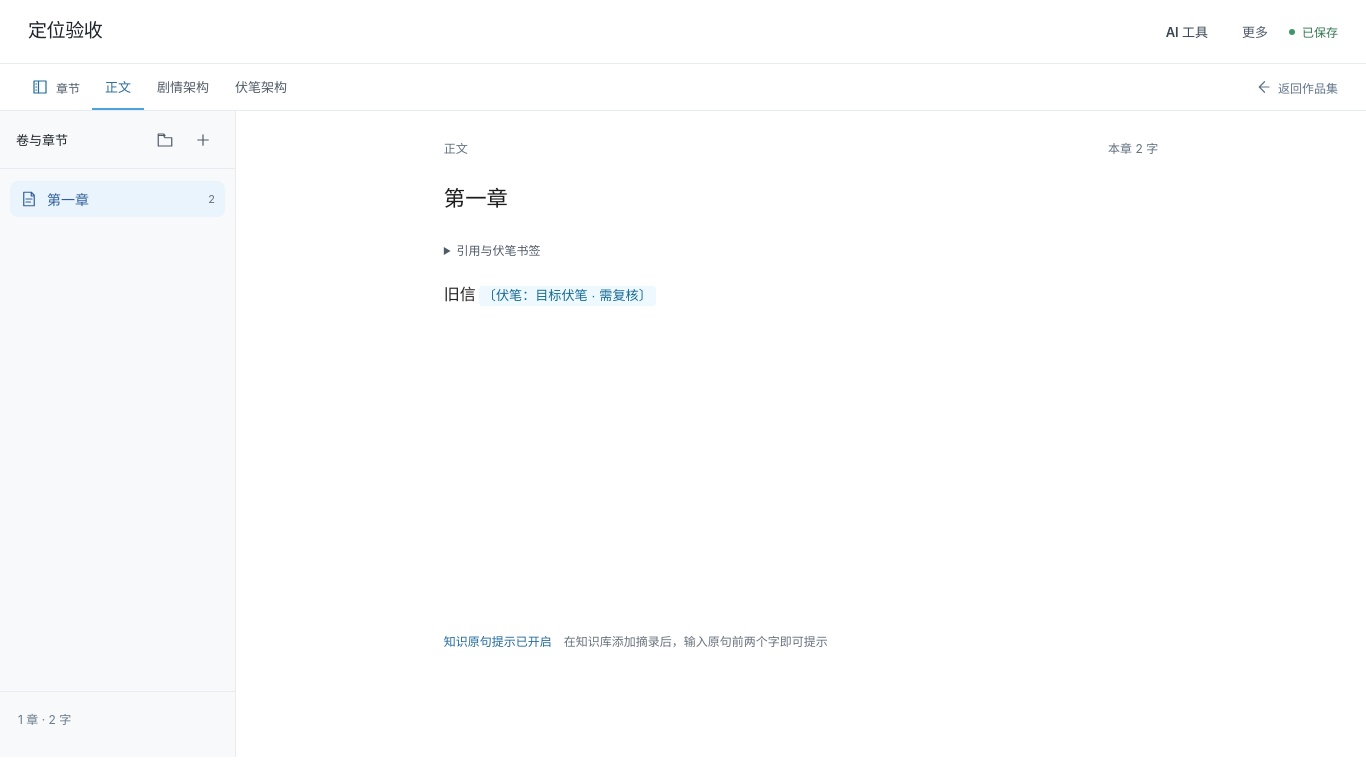
剧情关联列表定位目标伏笔，不切到首条伏笔
Click the tab "剧情架构": (183, 87) [144,64,222,110]
(page scrolled)
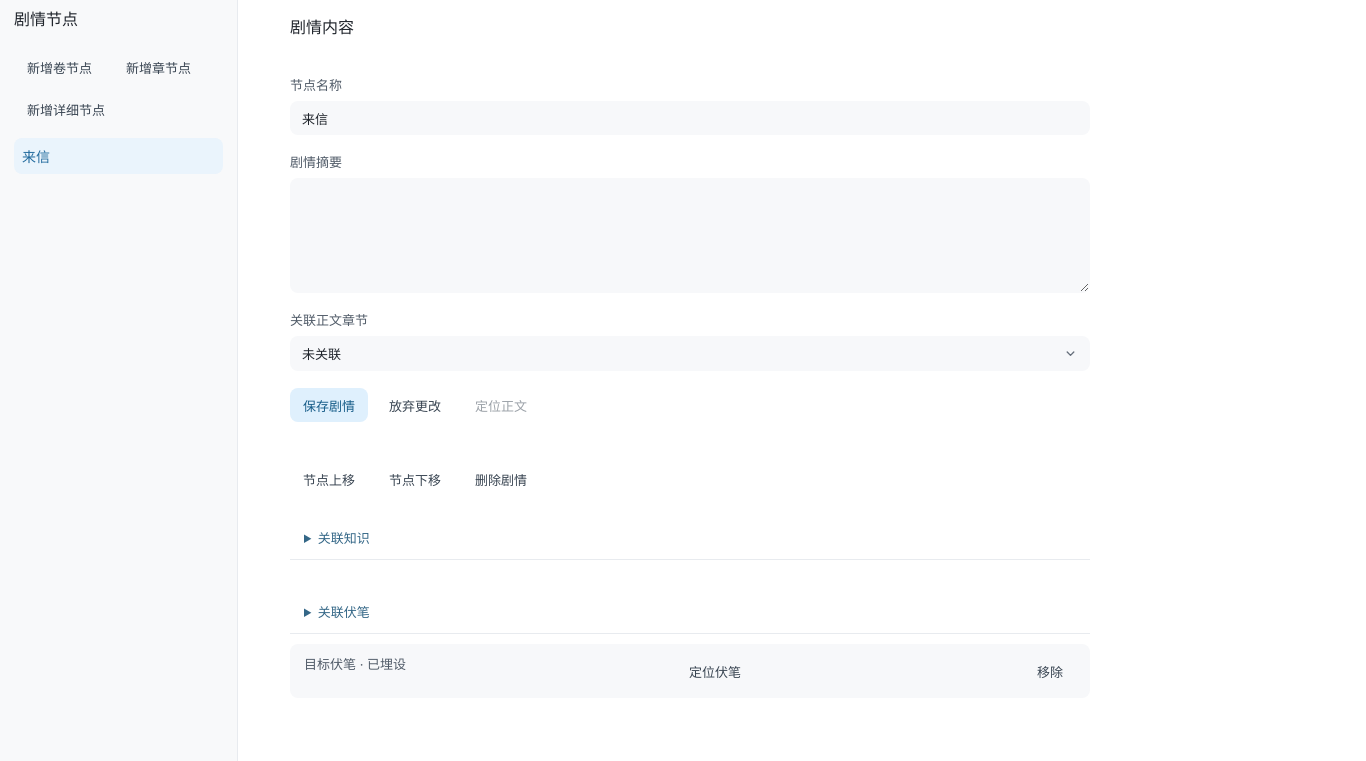
Click the button with aria-label "定位伏笔：目标伏笔": (715, 671) [676,654,754,688]
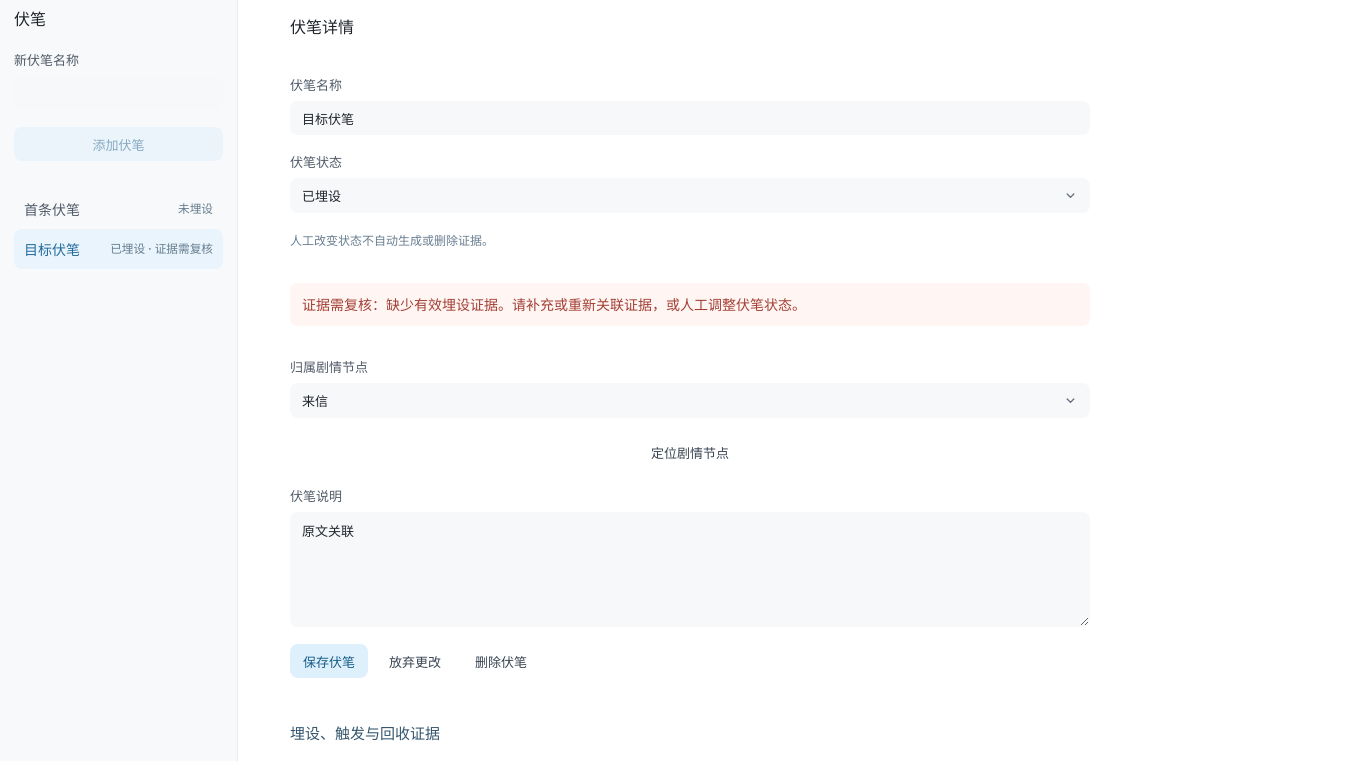
Expected: the field labelled "伏笔名称" holds "目标伏笔", [290,101,1090,135]
